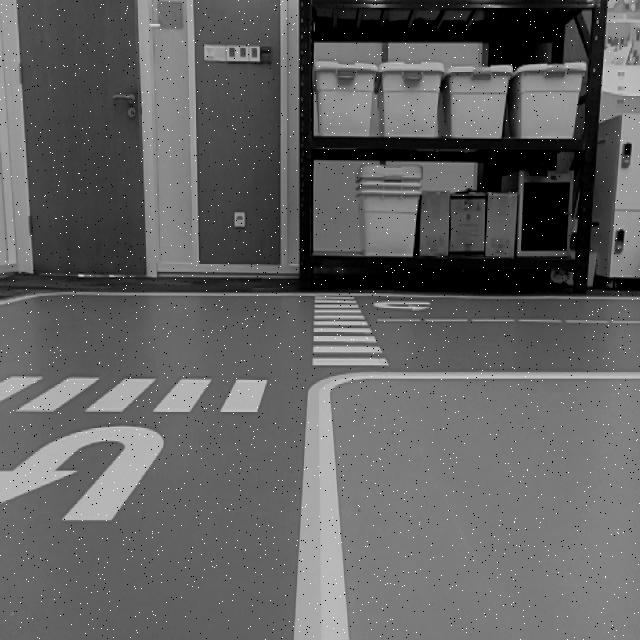right_lane: (293, 389, 321, 640)
